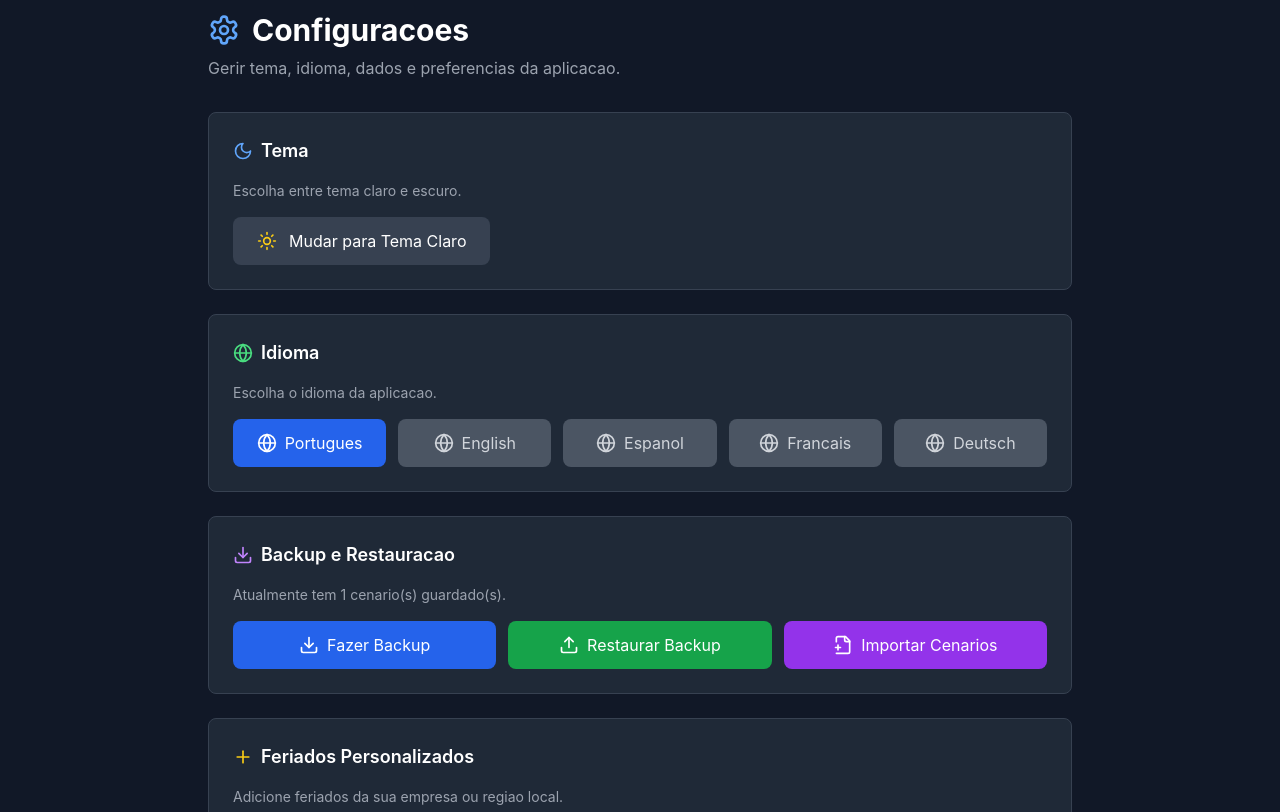
Scenario: SettingsPage › should switch language to English
Click the button "English": (475, 443) [398,419,551,467]
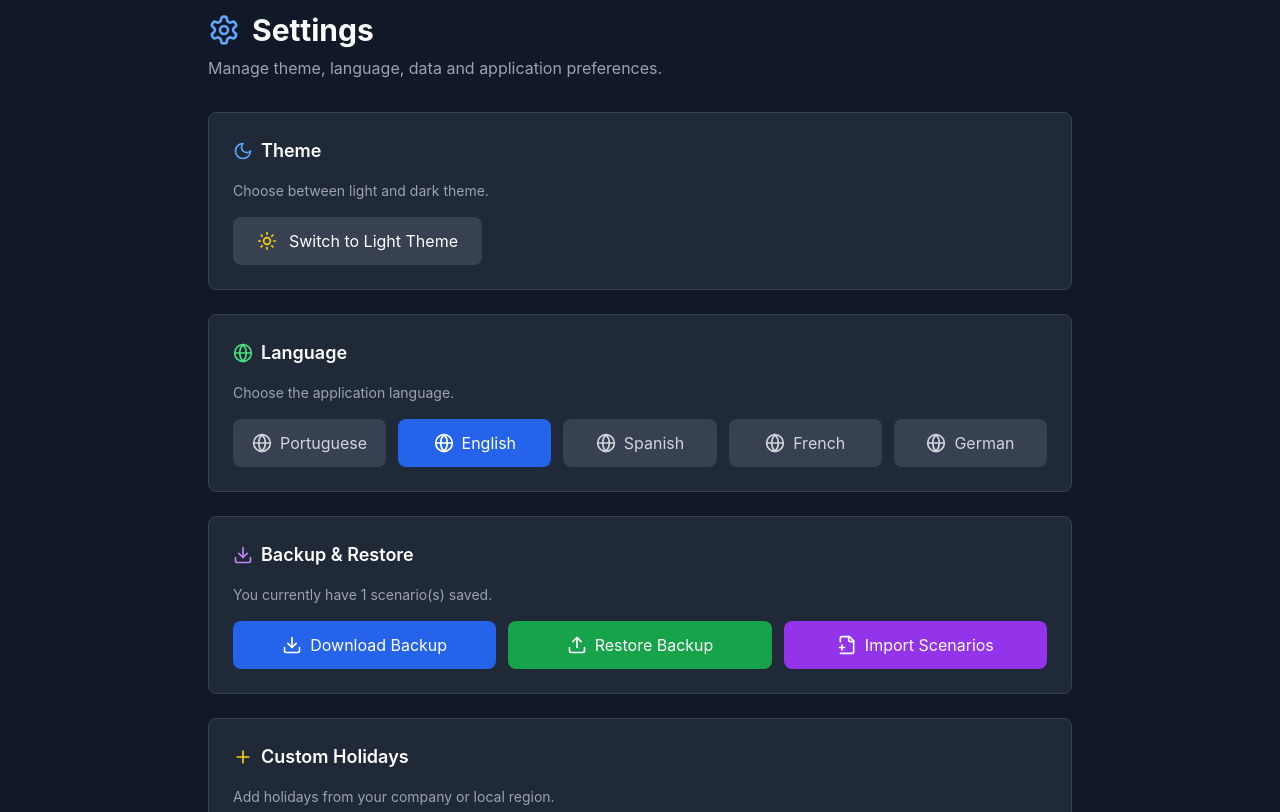
Now the heading "Settings" is shown, box [208,12,374,48]
